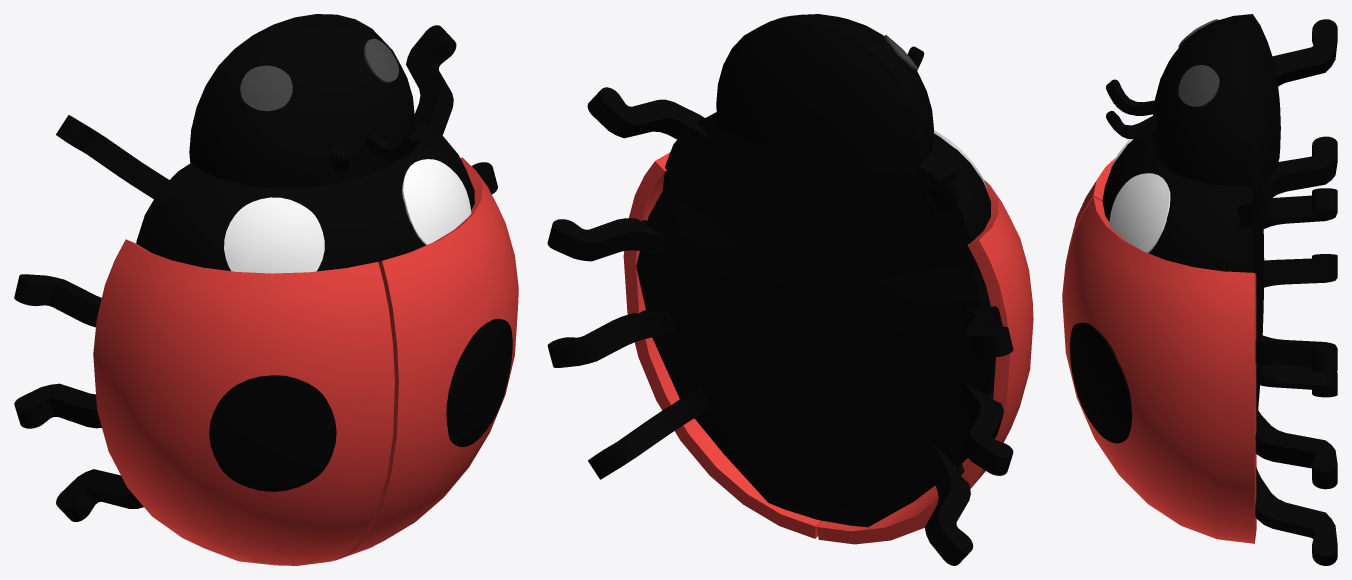
The model's file is lady_beetle.glb.
The picture shows the model from 3 angles, left to right: view 1: azimuth 30°, elevation 25°; view 2: azimuth 150°, elevation 25°; view 3: azimuth 270°, elevation 25°; orthographic projection. The views are drawn at different scales.
Visible parts, largest first — view 1: Sphere.385, Cube.143, Cube.142, Circle.2000, Cube.145, Circle.2001, Circle.1999, Cube.144; view 2: Cube.142, Cube.143, Cube.145, Sphere.385; view 3: Sphere.385, Cube.145, Cube.143, Cube.142, Circle.2000, Circle.2001, Cube.144, Circle.1999.
Boxes of the visible parts, x1,y1,x2,y2 form: Sphere.385: [93, 157, 518, 565]; Cube.143: [189, 14, 415, 188]; Cube.142: [136, 116, 474, 271]; Circle.2000: [209, 318, 512, 491]; Cube.145: [14, 25, 497, 521]; Circle.2001: [224, 159, 471, 273]; Circle.1999: [240, 38, 398, 111]; Cube.144: [331, 132, 419, 173]; Cube.142: [636, 112, 995, 527]; Cube.143: [716, 14, 933, 175]; Cube.145: [547, 87, 1013, 565]; Sphere.385: [623, 152, 1033, 544]; Sphere.385: [1062, 158, 1256, 543]; Cube.145: [1238, 19, 1337, 565]; Cube.143: [1152, 14, 1280, 195]; Cube.142: [1102, 133, 1264, 410]; Circle.2000: [1070, 322, 1132, 443]; Circle.2001: [1109, 139, 1170, 252]; Cube.144: [1106, 79, 1157, 139]; Circle.1999: [1178, 19, 1219, 106].
Bounding box in the file's own units: 1.99 × 2.12 × 1.06.
1 material, 1 textured.
